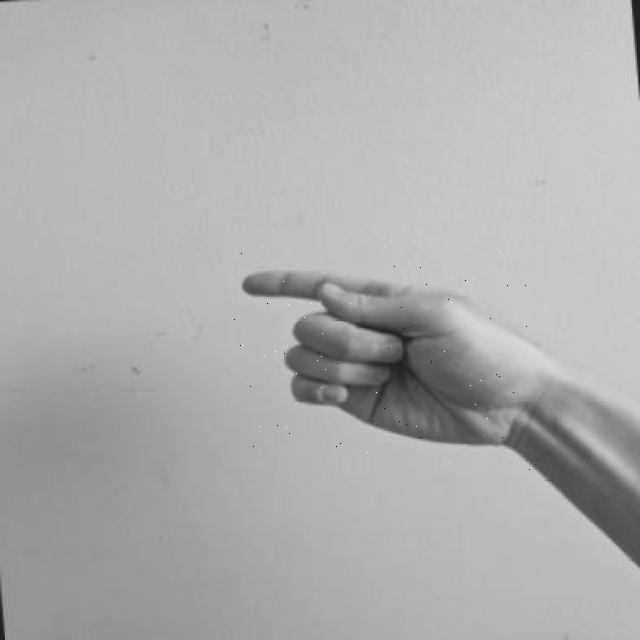G: (231, 246, 546, 472)
